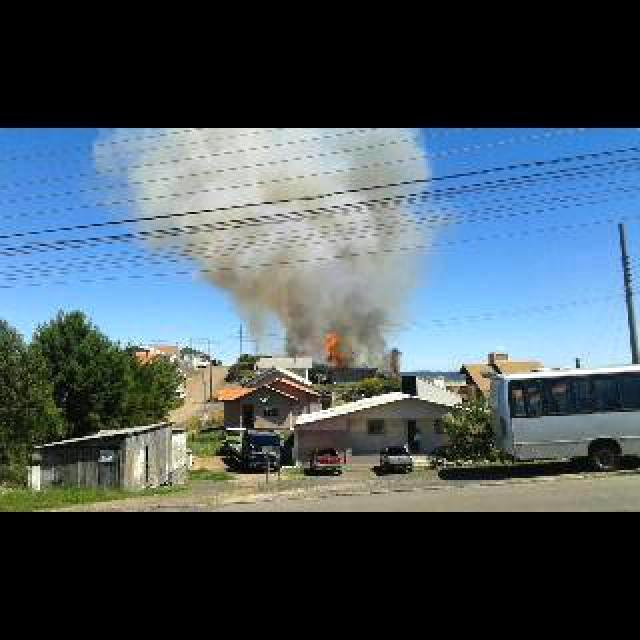Fire: (323, 329, 343, 359)
Smoke: (89, 132, 443, 358)
